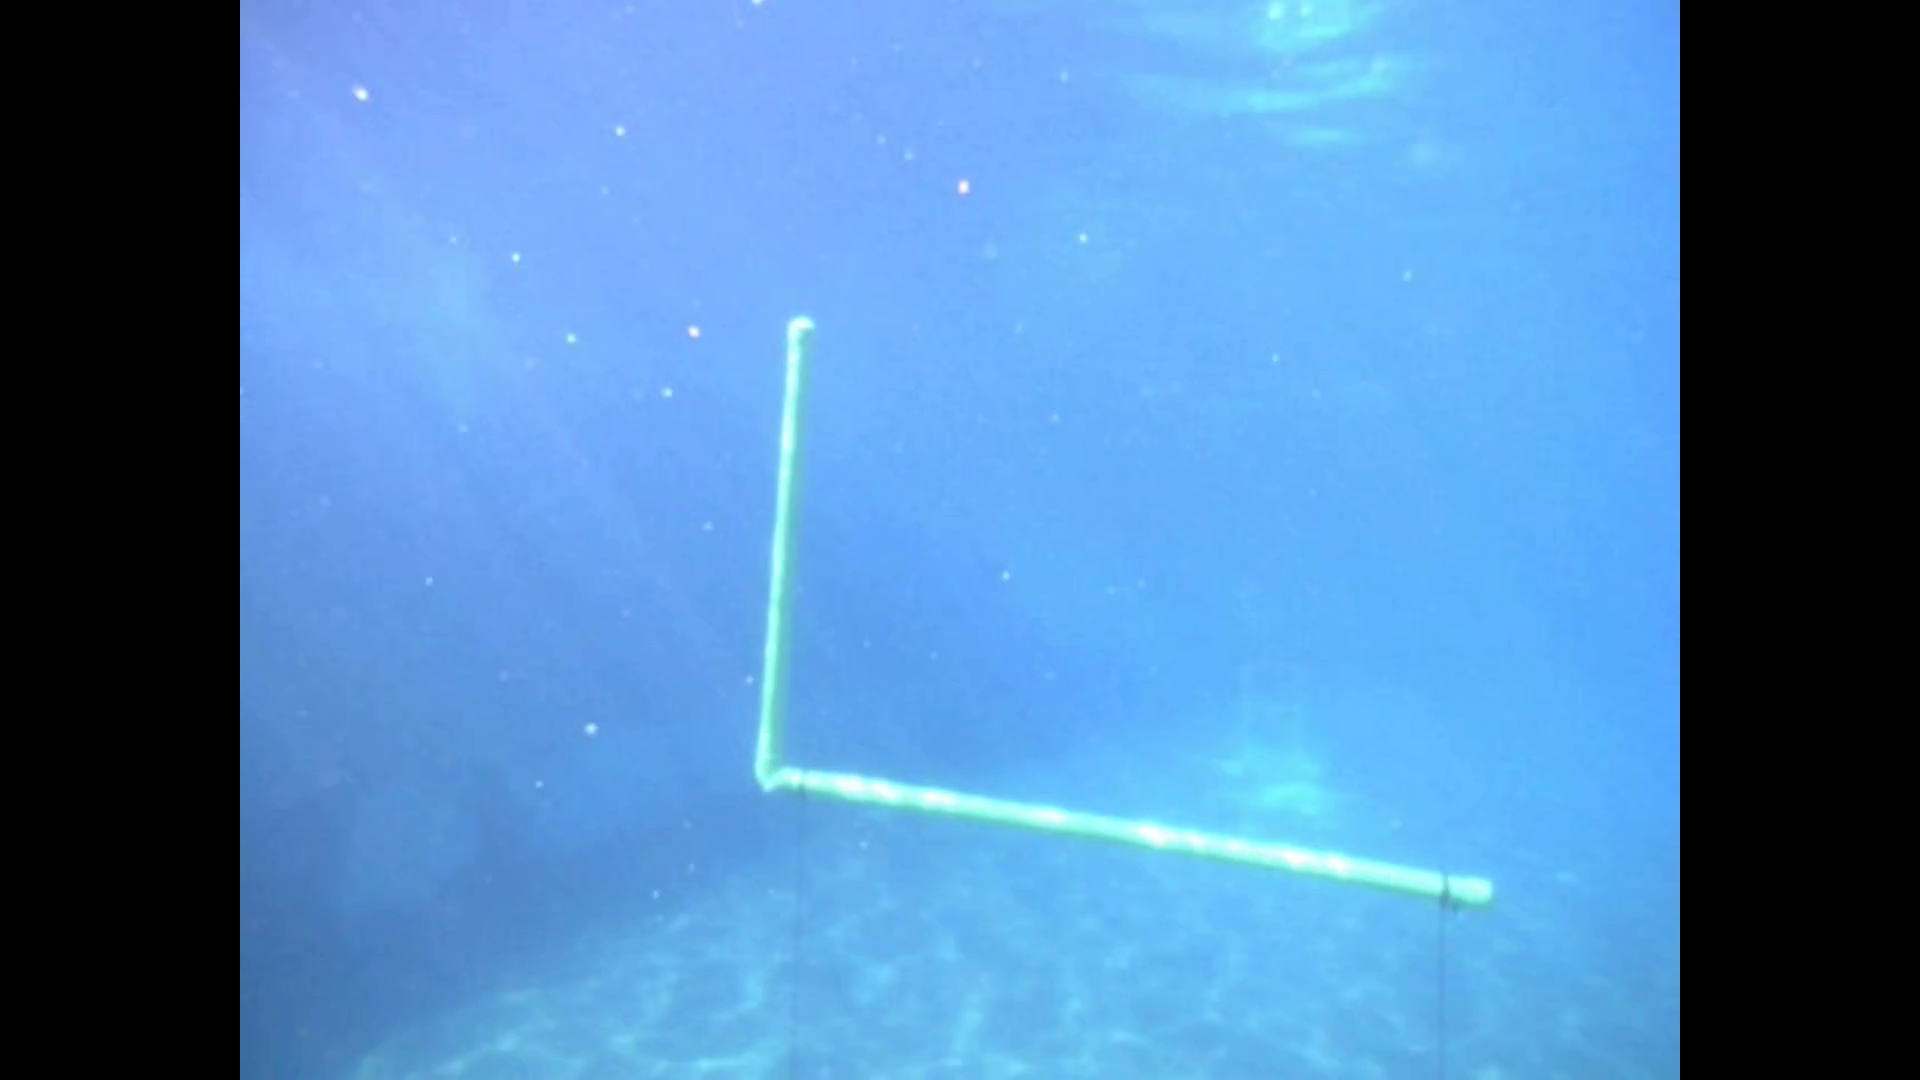gate: (749, 310, 1502, 913)
